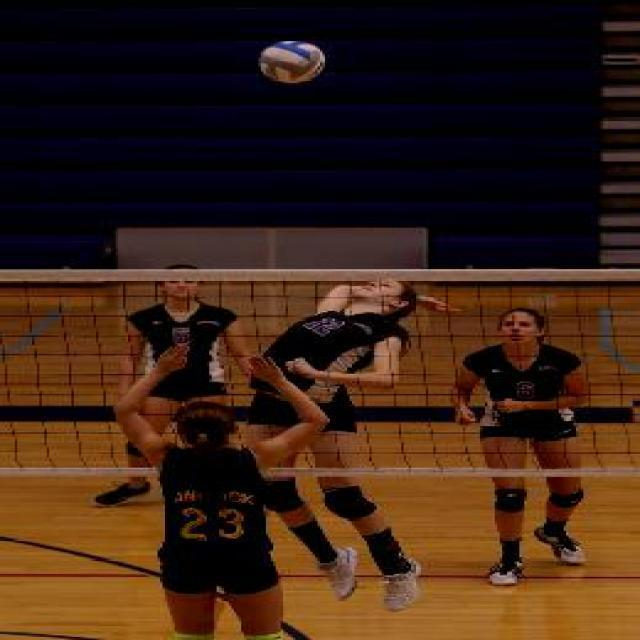volleyball: (258, 40, 324, 84)
